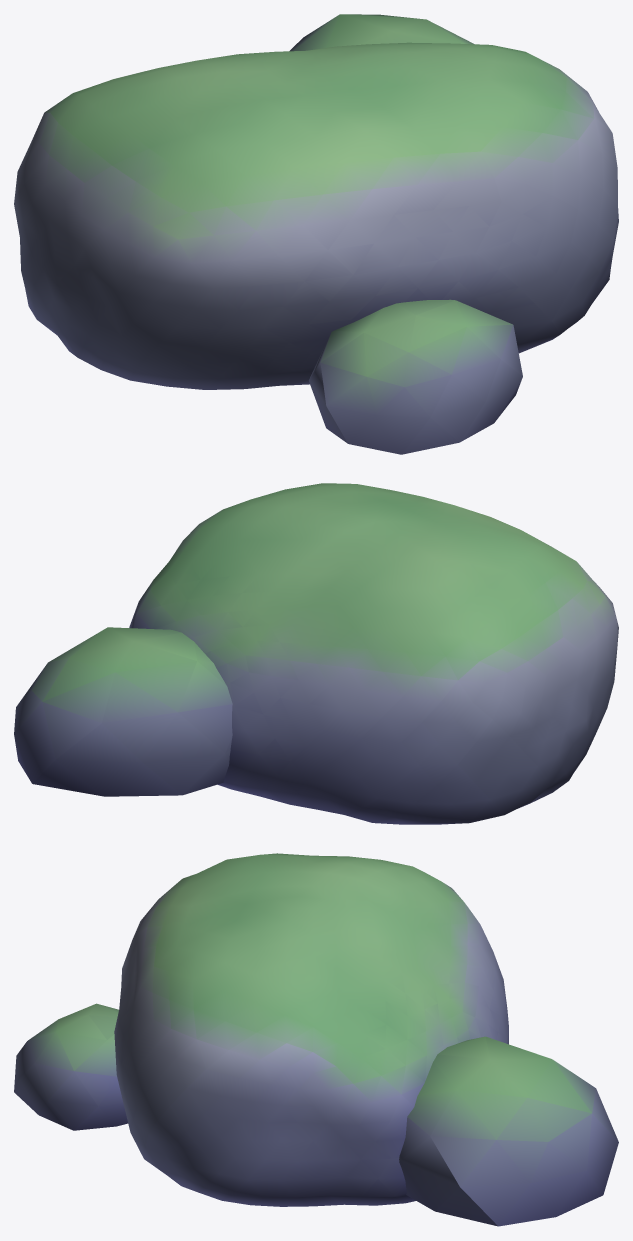
File: hub_rock_river_a.glb
3 renders of one model, top to bottom at view 1: azimuth 30°, elevation 25°; view 2: azimuth 150°, elevation 25°; view 3: azimuth 270°, elevation 25°, orthographic. The views are drawn at different scales.
Parts seen in each view (by area): view 1: hub_rock_river_a; view 2: hub_rock_river_a; view 3: hub_rock_river_a.
Part boxes in pixels (x1,y1,x2,y2): hub_rock_river_a: (14,14,618,454); hub_rock_river_a: (14,483,618,824); hub_rock_river_a: (14,853,618,1226).
Size of the model in its own units: 1.81 by 0.8004 by 2.
